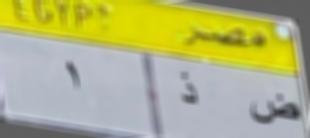1: (58, 57, 85, 96)
daad: (248, 90, 300, 129)
zaal: (175, 70, 201, 109)
